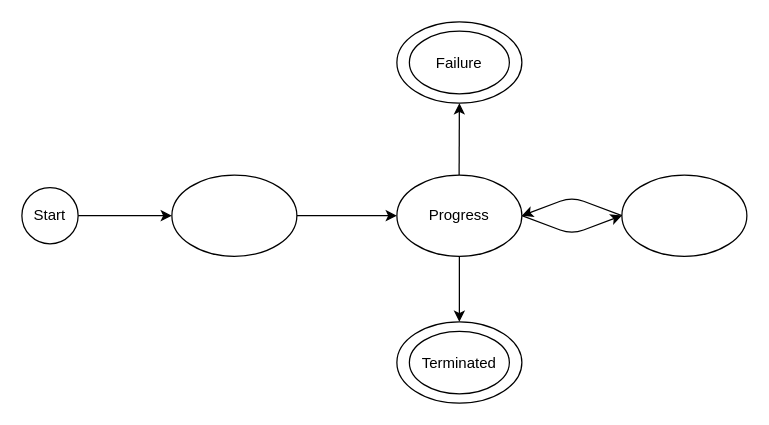
Image size: 769x425. Some labels were removed from this diagram. Here are the shapes that lost their labels. From the top down, the centre of each, then its label:
At [234,215]: "Pending".
At [684,215]: "Running".
